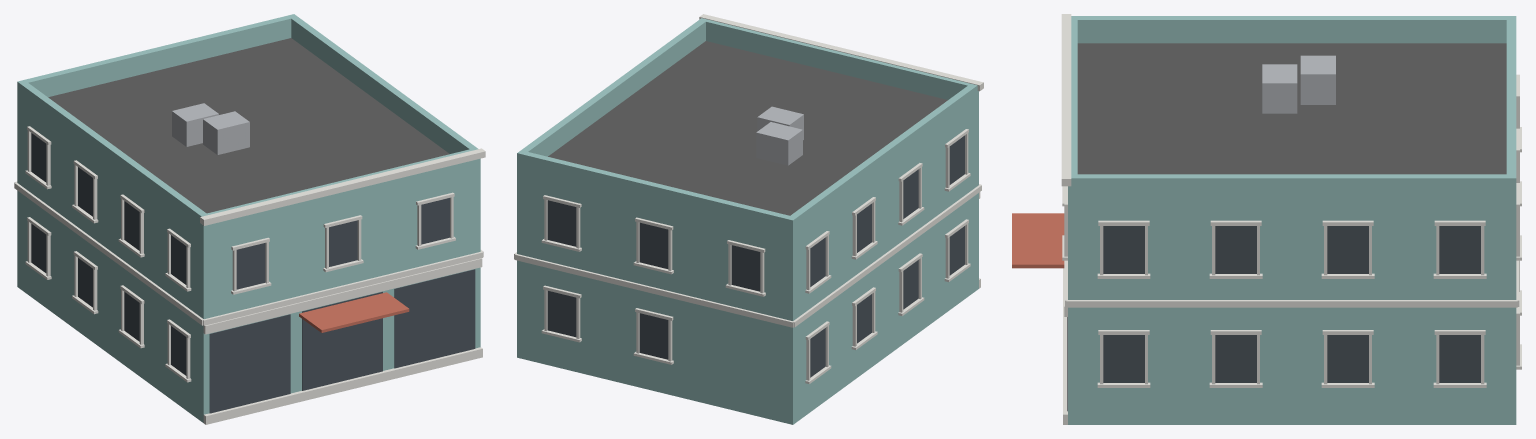
Rendered from SM_Storefront_2F_B.fbx.
3 views of the same model, side by side, from view 1: azimuth 30°, elevation 25°; view 2: azimuth 150°, elevation 25°; view 3: azimuth 270°, elevation 25° (orthographic). The views are drawn at different scales.
Visible parts, largest first — view 1: SM_Storefront_2F_B_LOD0; view 2: SM_Storefront_2F_B_LOD0; view 3: SM_Storefront_2F_B_LOD0.
Boxes of the visible parts, x1,y1,x2,y2 form: SM_Storefront_2F_B_LOD0: (14,14,485,424); SM_Storefront_2F_B_LOD0: (514,14,983,424); SM_Storefront_2F_B_LOD0: (1012,14,1521,424).
Size of what is drawn, in the model's own units: 12.36 by 8.75 by 15.93.
